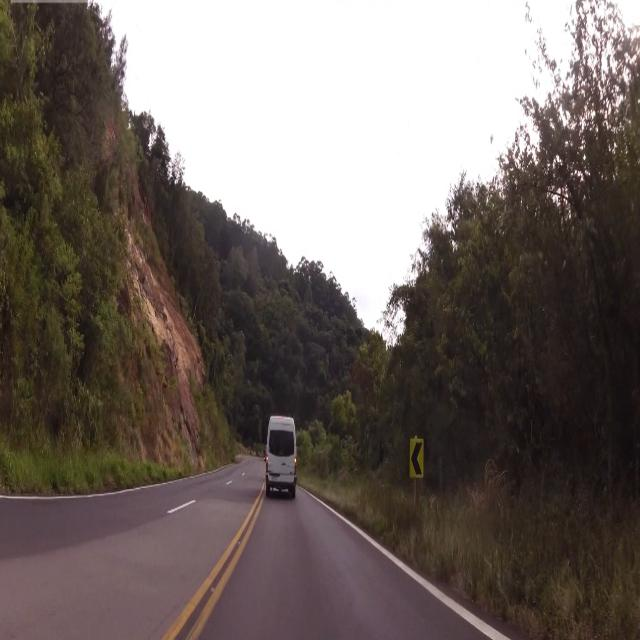Del: (407, 434, 428, 485)
